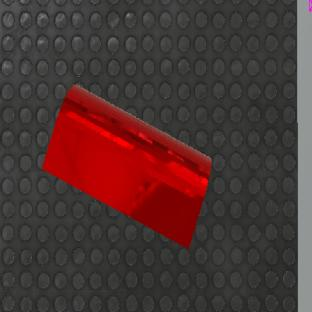objects: (25, 77, 237, 253)
